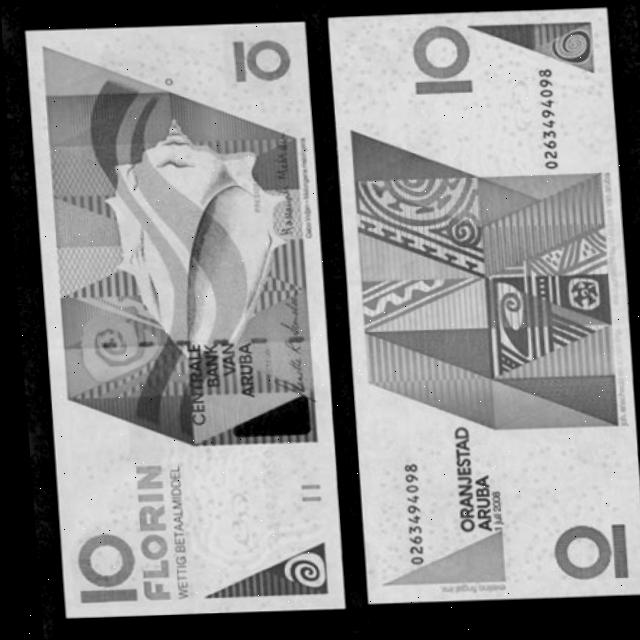banknote: (18, 19, 340, 621), (321, 7, 640, 609)
